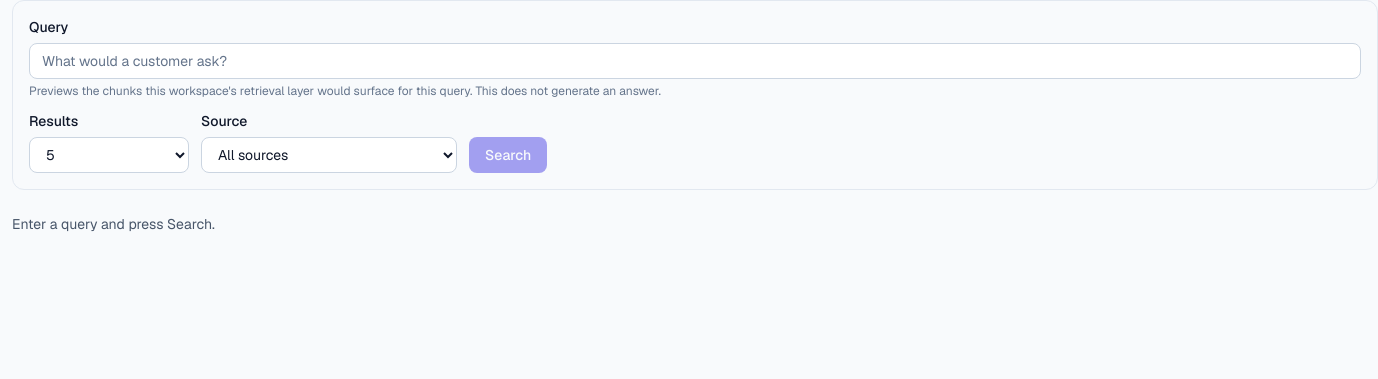
Test case: KnowledgeSearchPanel › content safety › renders an HTML-looking chunk as inert text, never executed markup
Type "refund" into the search field labelled "Query" at (695, 61), box x1=29 y1=43 x2=1361 y2=79
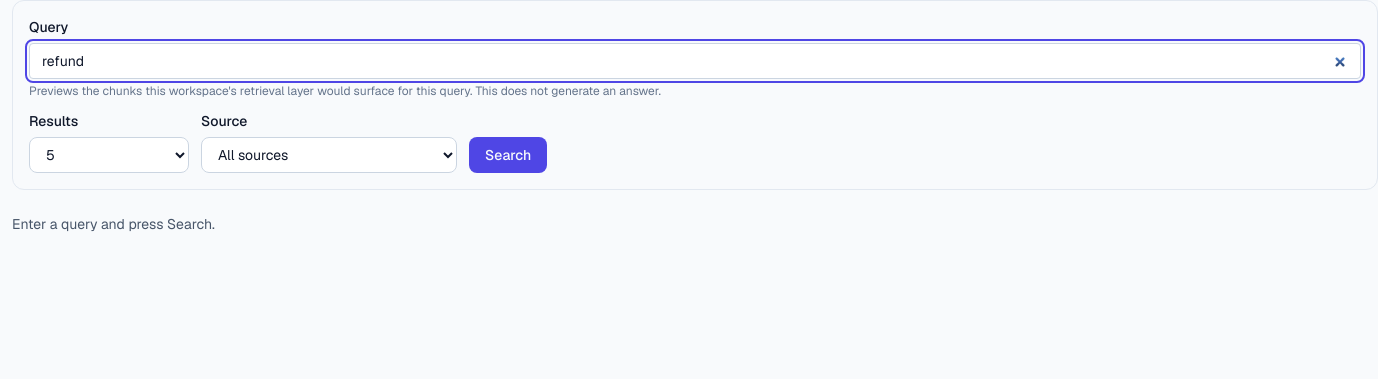
Click the button "Search" at (508, 155), box x1=469 y1=137 x2=547 y2=173
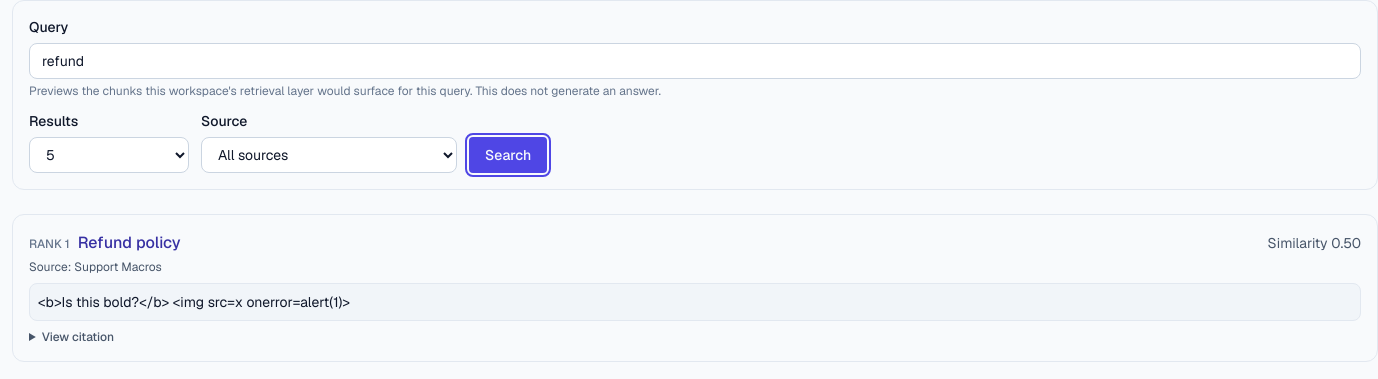
Check: the text "<b>Is this bold?</b> <img src=x onerror=alert(1)>" is shown, box x1=29 y1=283 x2=1361 y2=321
